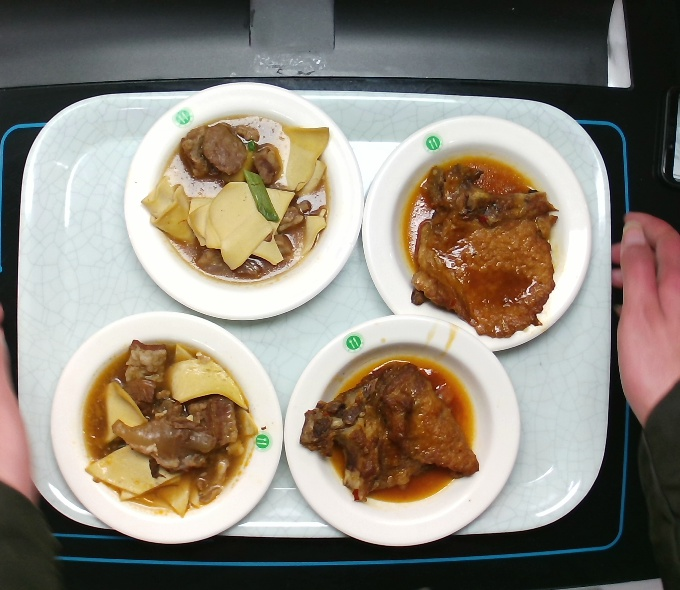wcq-DaPai: (399, 156, 559, 338), (294, 355, 480, 506)
wcq-QianZhangNiuRou: (152, 113, 333, 284), (78, 337, 252, 514)
